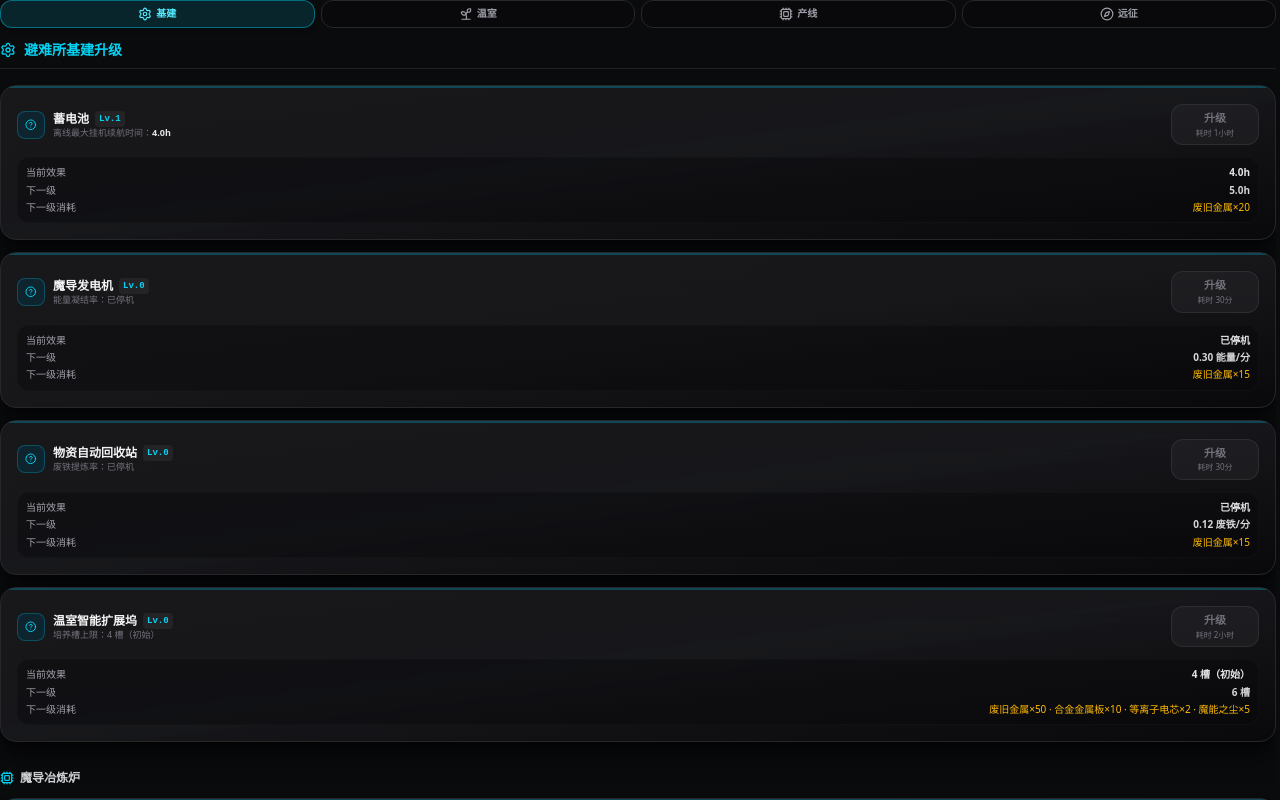
Test: 生产/取消弹窗（issue 08 变体 B） › 滑条定批次 → 消耗/产出 ×N 预览 → 开始生产扣全部材料并进入生产中
Click the button "产线" at (798, 14), box [641,0,956,28]
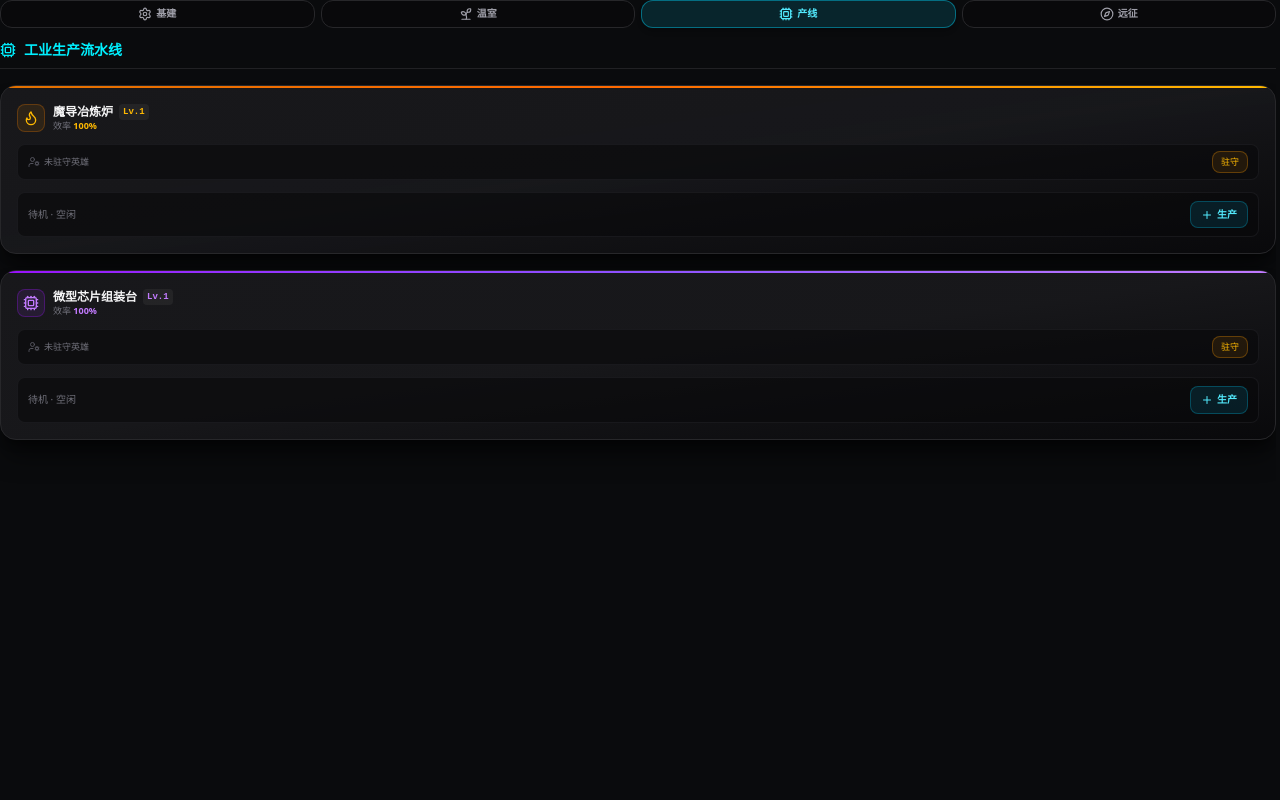
Click the button with test id "start-task-btn-smelter-0" at (1219, 215), box [1190,201,1248,228]
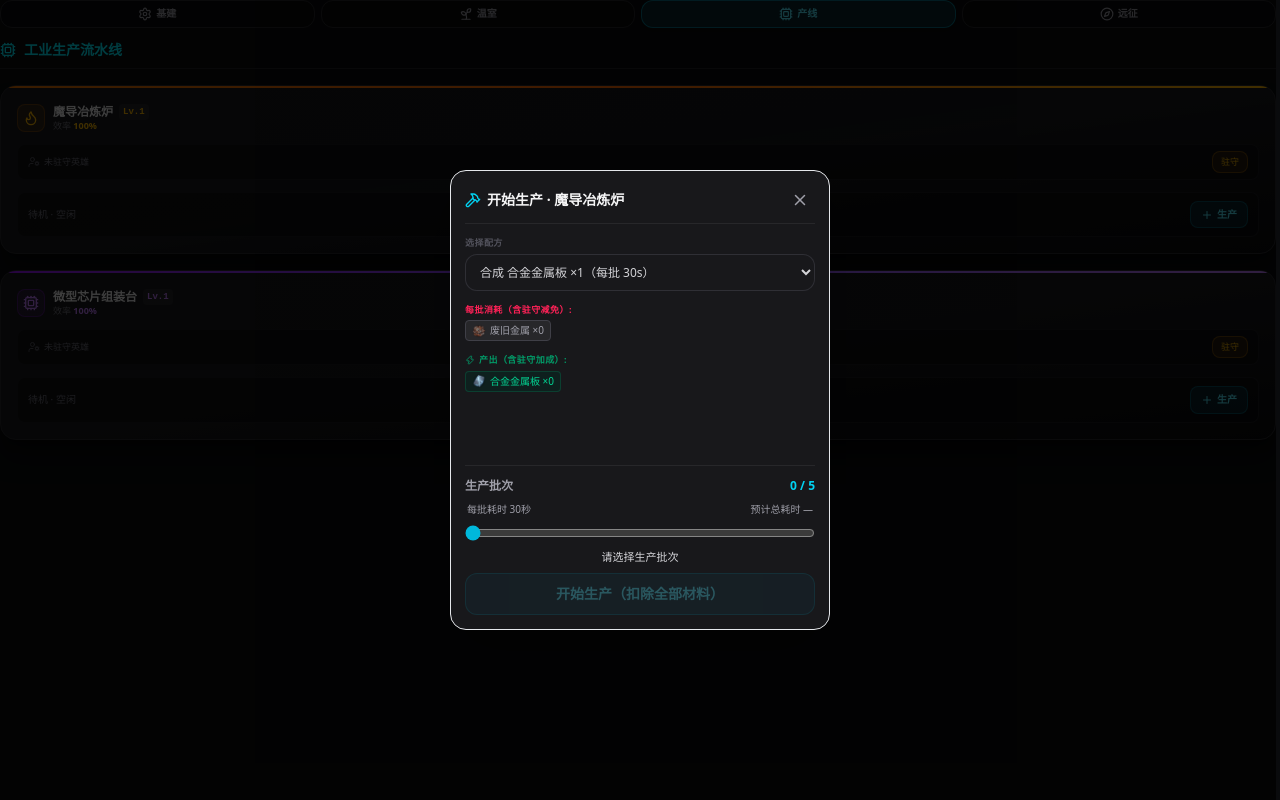
Set the slider with test id "start-task-slider" to "3" at (673, 532), box [465,524,815,540]
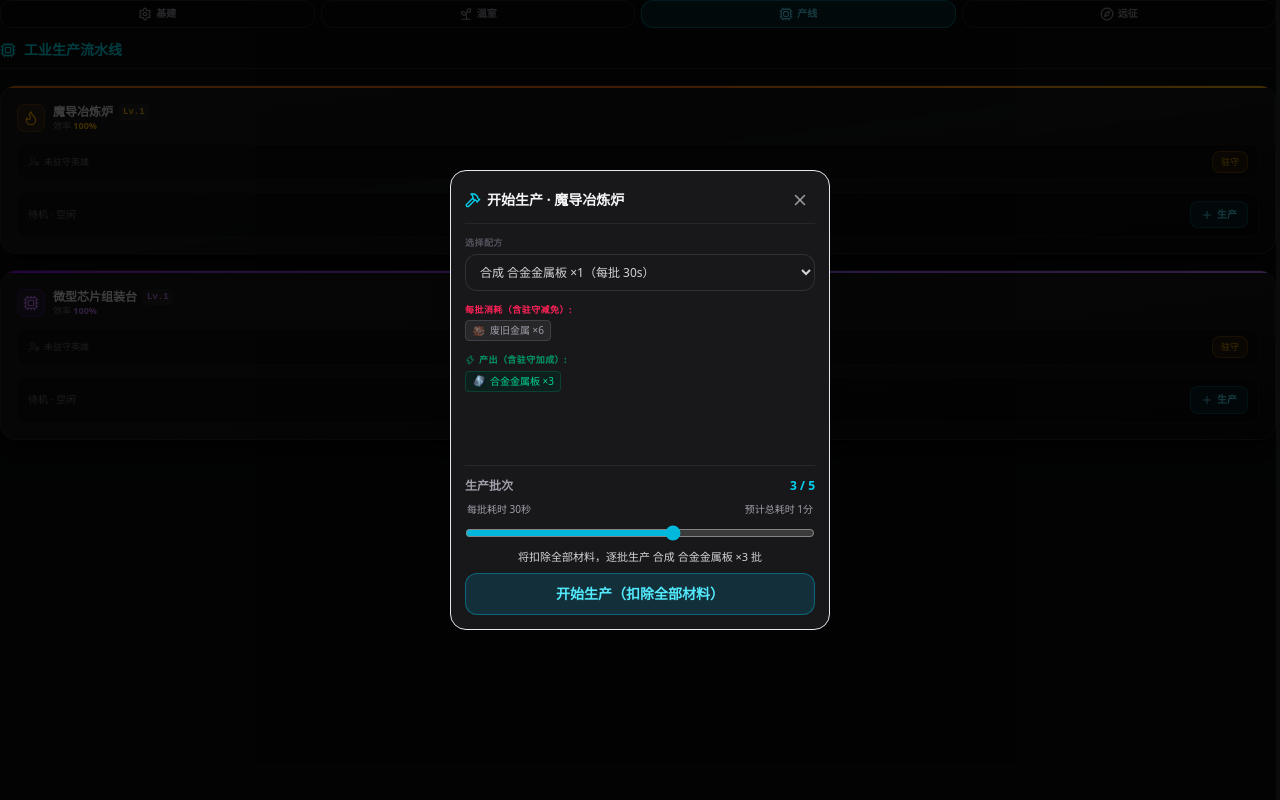
expect the text "废旧金属 ×6" is shown: met, box [465,320,551,341]
expect the text "合金金属板 ×3" is shown: met, box [465,370,561,392]
Click the button with test id "start-task-button" at (640, 594), box [465,573,815,615]
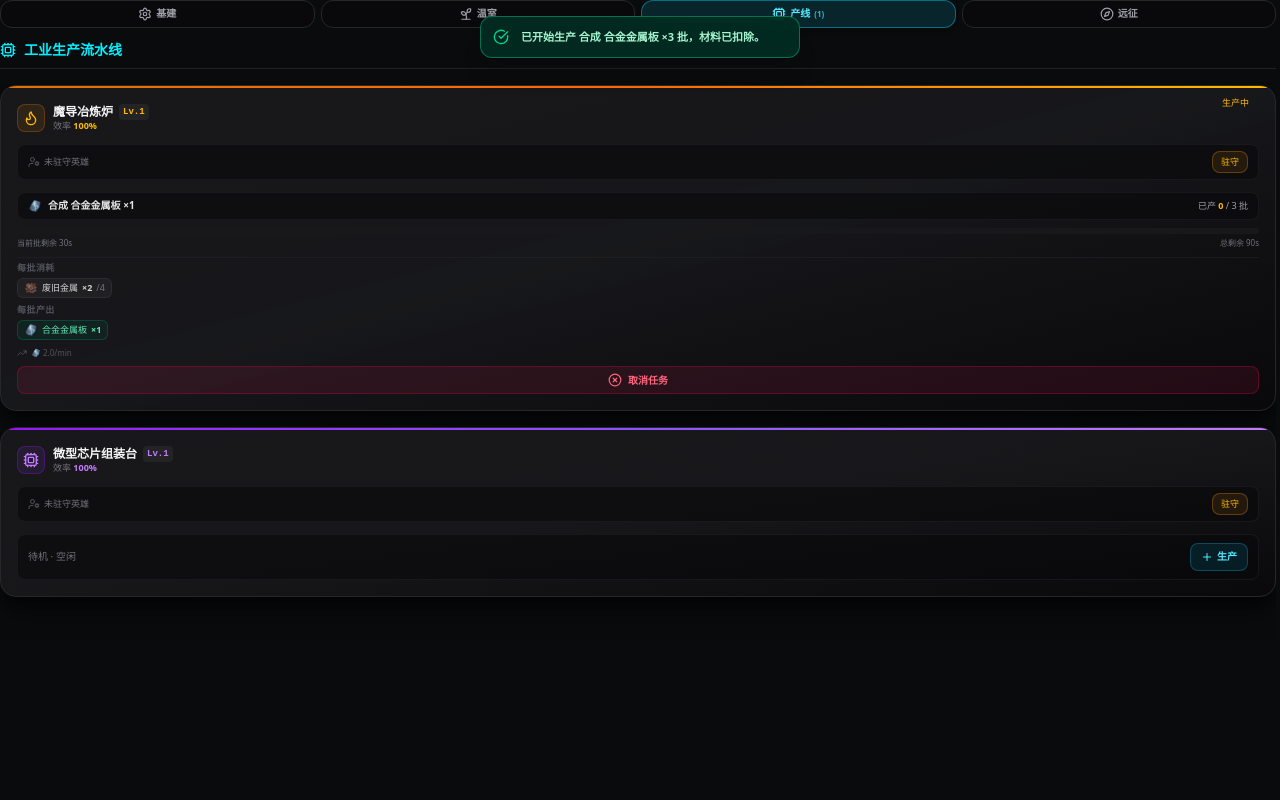
expect the element with test id "start-task-container" is gone: met
expect the text "已产 0 / 3 批" is shown: met, box [1198,200,1248,212]
expect the button "取消任务" is shown: met, box [17,366,1259,394]
